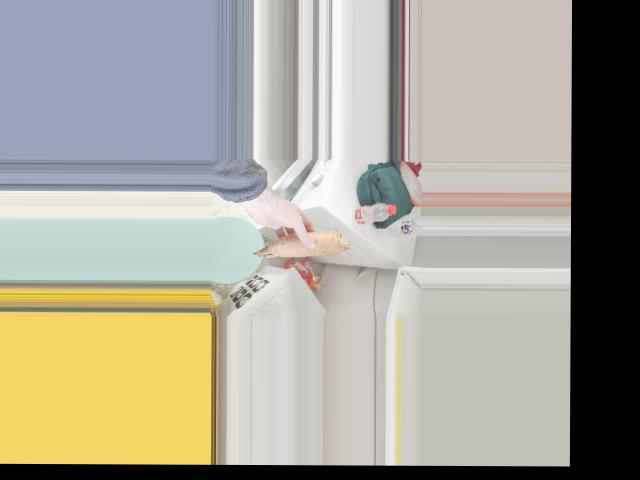sweet_potato: (253, 229, 346, 265)
